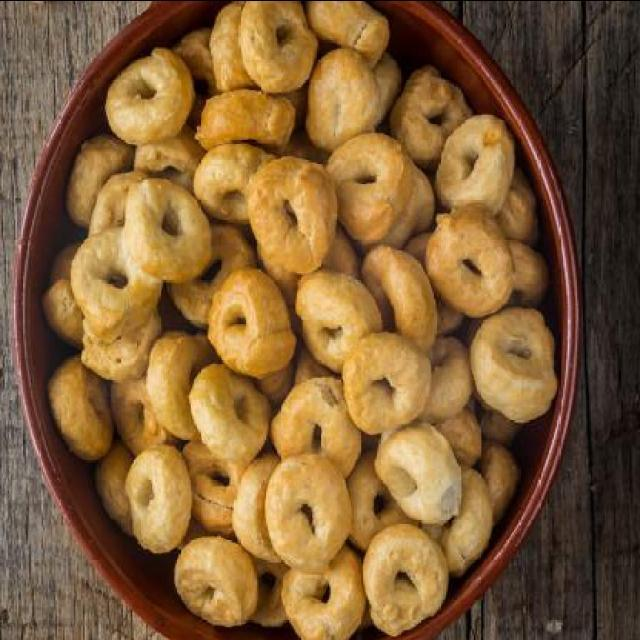Taralli: (44, 0, 553, 636)
